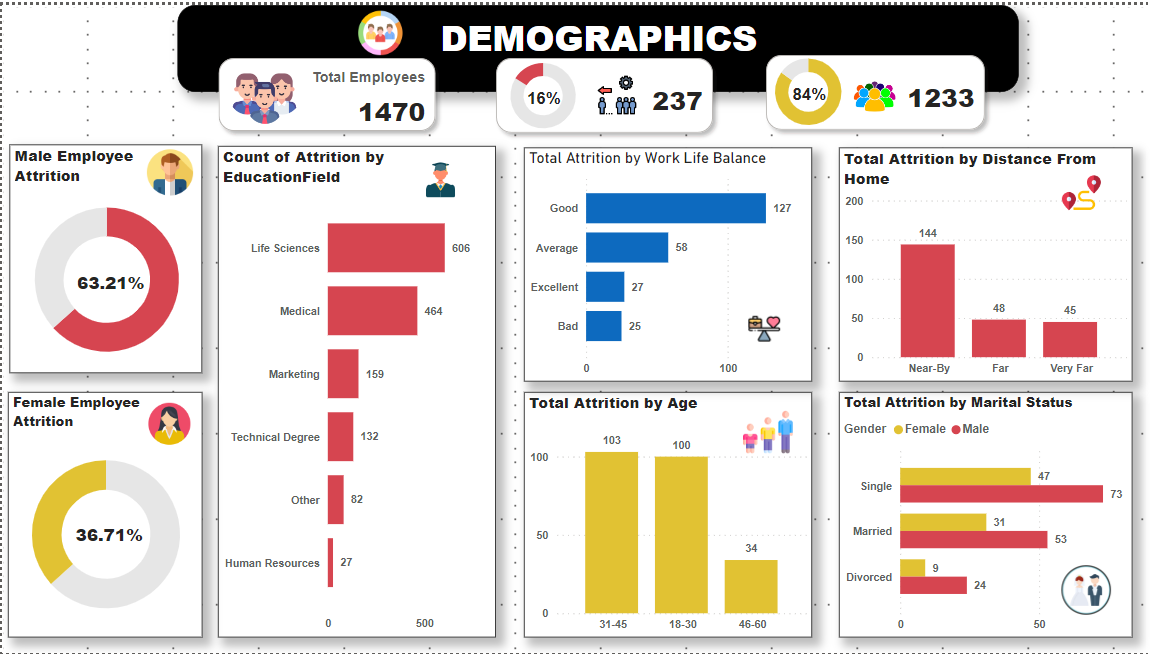

This screenshot's page, from the dashboard's own definition file:
{"tool":"powerbi","page":{"name":"Page 2","canvas":[1280,720],"ordinal":1},"visuals":[{"type":"textbox","title":"DEMOGRAPHICS","box":[195.5,0,934.5,96.4],"z":0},{"type":"image","box":[386.2,0,67.7,61.5],"z":1000},{"type":"cardVisual","fields":{"Data":["Sum(HR-Employee-Attrition.EmployeeCount)"]},"box":[223.3,41.7,275,115],"z":2000},{"type":"image","box":[250,61.4,82.9,84.3],"z":3000},{"type":"cardVisual","fields":{"Data":["Sum(HR-Employee-Attrition.Attrition Count)"]},"box":[531.4,41.4,275.7,117.1],"z":4000},{"type":"cardVisual","fields":{"Data":["HR-Employee-Attrition.AE"]},"box":[831.4,38.6,277.1,117.1],"z":5000},{"type":"barChart","fields":{"Y":["CountNonNull(HR-Employee-Attrition.Attrition)"],"Category":["HR-Employee-Attrition.EducationField"]},"box":[240,157.1,308.6,545.7],"z":6000},{"type":"donutChart","title":"Male Employee Attrition ","fields":{"Category":["HR-Employee-Attrition.Gender"],"Y":["Sum(HR-Employee-Attrition.Attrition Count)"]},"box":[8.6,155.7,214.3,254.3],"z":7000},{"type":"donutChart","title":"Female Employee Attrition ","fields":{"Category":["HR-Employee-Attrition.Gender"],"Y":["Sum(HR-Employee-Attrition.Attrition Count)"]},"box":[7.1,430,215.7,272.9],"z":8000},{"type":"donutChart","fields":{"Category":["HR-Employee-Attrition.Attrition"],"Y":["Sum(HR-Employee-Attrition.EmployeeCount)"]},"box":[512.3,49.2,178.5,100.8],"z":9000},{"type":"textbox","box":[578.5,87.7,61.5,32.3],"z":10000},{"type":"image","box":[648.5,71.5,70,56.2],"z":11000},{"type":"image","box":[452.9,168.6,68.6,51.4],"z":12000},{"type":"donutChart","fields":{"Category":["HR-Employee-Attrition.Attrition"],"Y":["Sum(HR-Employee-Attrition.DailyRate)"]},"box":[806.9,45.4,177.7,102.3],"z":13000},{"type":"clusteredBarChart","title":"Total Attrition by Marital Status ","fields":{"Category":["HR-Employee-Attrition.MaritalStatus"],"Y":["Sum(HR-Employee-Attrition.Attrition Count)"],"Series":["HR-Employee-Attrition.Gender"]},"box":[930,430,325.7,272.9],"z":14000},{"type":"textbox","box":[873.8,83.1,63.8,33.1],"z":15000},{"type":"image","box":[930,61.5,79.2,84.6],"z":16000},{"type":"columnChart","title":"Total Attrition by Age","fields":{"Category":["HR-Employee-Attrition.Age (groups)"],"Y":["Sum(HR-Employee-Attrition.Attrition Count)"]},"box":[580,430,320,272.9],"z":17000},{"type":"barChart","title":"Total Attrition by Work Life Balance","fields":{"Category":["HR-Employee-Attrition.WorkLifeBalance (groups)"],"Y":["Sum(HR-Employee-Attrition.Attrition Count)"]},"box":[580,158.6,320,260],"z":18000},{"type":"image","box":[820,337.1,54.3,45.7],"z":19000},{"type":"image","box":[807.1,441.4,88.6,65.7],"z":20000},{"type":"image","box":[1171.4,615.7,65.7,70],"z":21000},{"type":"columnChart","title":"Total Attrition by Distance From Home","fields":{"Y":["Sum(HR-Employee-Attrition.Attrition Count)"],"Category":["HR-Employee-Attrition.DistanceFromHome (groups)"]},"box":[930,158.6,325.7,260],"z":22000},{"type":"image","box":[1161.7,181.7,75,53.3],"z":23000},{"type":"textbox","box":[78.3,290,93.3,48.3],"z":24000},{"type":"textbox","box":[76.7,570,93.3,48.3],"z":25000},{"type":"image","box":[151.7,155,70,61.7],"z":26000},{"type":"image","box":[156.7,436.7,58.3,56.7],"z":27000}]}

Visuals, with their boxes in screenshot pixels (x1, y1, x2, y2), scaled from the page's 1280x720 canvas onto the 1150x654 screenshot:
"DEMOGRAPHICS" textbox: locate(176, 0, 1015, 88)
image: locate(347, 0, 408, 56)
cardVisual - Sum(HR-Employee-Attrition.EmployeeCount): locate(201, 38, 448, 142)
image: locate(225, 56, 299, 132)
cardVisual - Sum(HR-Employee-Attrition.Attrition Count): locate(477, 38, 725, 144)
cardVisual - HR-Employee-Attrition.AE: locate(747, 35, 996, 141)
barChart - CountNonNull(HR-Employee-Attrition.Attrition) x HR-Employee-Attrition.EducationField: locate(216, 143, 493, 638)
"Male Employee Attrition " donutChart: locate(8, 141, 200, 372)
"Female Employee Attrition " donutChart: locate(6, 391, 200, 638)
donutChart - HR-Employee-Attrition.Attrition x Sum(HR-Employee-Attrition.EmployeeCount): locate(460, 45, 621, 136)
textbox: locate(520, 80, 575, 109)
image: locate(583, 65, 646, 116)
image: locate(407, 153, 469, 200)
donutChart - HR-Employee-Attrition.Attrition x Sum(HR-Employee-Attrition.DailyRate): locate(725, 41, 885, 134)
"Total Attrition by Marital Status " clusteredBarChart: locate(836, 391, 1128, 638)
textbox: locate(785, 75, 842, 106)
image: locate(836, 56, 907, 133)
"Total Attrition by Age" columnChart: locate(521, 391, 809, 638)
"Total Attrition by Work Life Balance" barChart: locate(521, 144, 809, 380)
image: locate(737, 306, 786, 348)
image: locate(725, 401, 805, 461)
image: locate(1052, 559, 1111, 623)
"Total Attrition by Distance From Home" columnChart: locate(836, 144, 1128, 380)
image: locate(1044, 165, 1111, 213)
textbox: locate(70, 263, 154, 307)
textbox: locate(69, 518, 153, 562)
image: locate(136, 141, 199, 197)
image: locate(141, 397, 193, 448)
